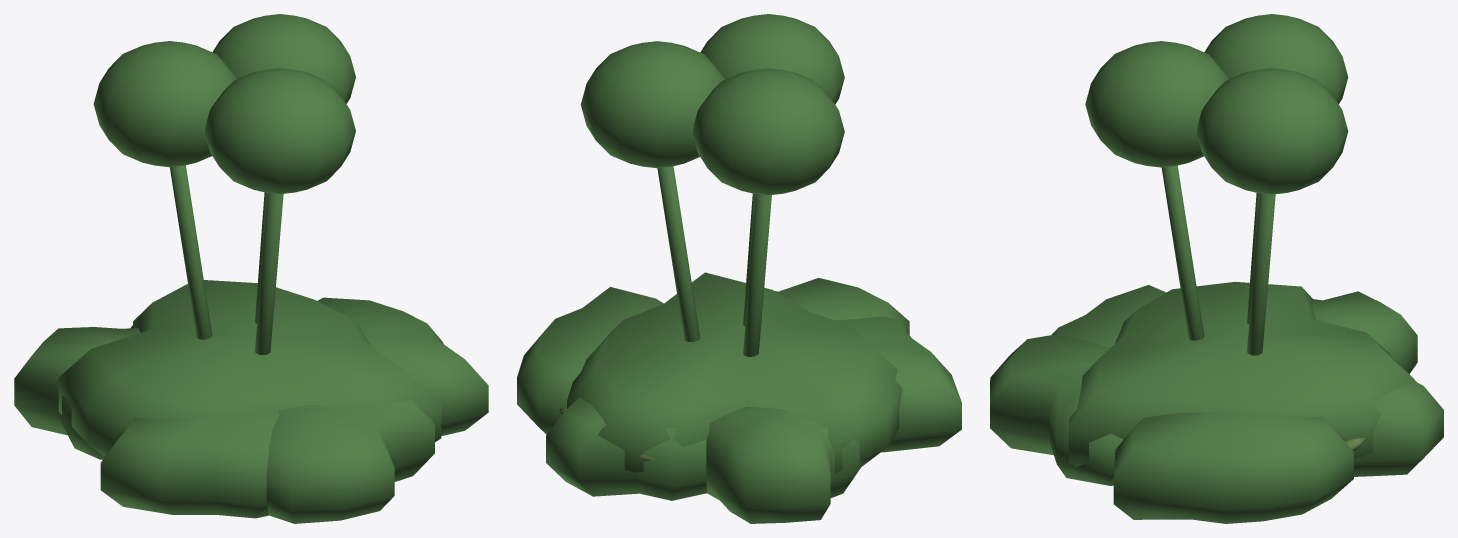
File: flowers_05.glb
3 renders of one model, left to right at view 1: azimuth 30°, elevation 25°; view 2: azimuth 150°, elevation 25°; view 3: azimuth 270°, elevation 25°, orthographic.
Visible parts, largest first — view 1: Tint, Ground foliage.018, Ground foliage.020, Ground foliage.021, Ground foliage.019, Ground foliage.022; view 2: Tint, Ground foliage.018, Ground foliage.022, Ground foliage.023, Ground foliage.019, Ground foliage.021, Ground foliage.020; view 3: Tint, Ground foliage.018, Ground foliage.019, Ground foliage.020, Ground foliage.023, Ground foliage.022, Ground foliage.021.
Part boxes in pixels (box(x1,y1,x2,y2)): Tint: box(93, 14, 355, 354); Ground foliage.018: box(58, 280, 441, 456); Ground foliage.020: box(266, 400, 434, 523); Ground foliage.021: box(100, 410, 279, 518); Ground foliage.019: box(317, 297, 488, 435); Ground foliage.022: box(14, 327, 140, 459); Tint: box(580, 14, 844, 356); Ground foliage.018: box(567, 272, 902, 473); Ground foliage.022: box(706, 406, 865, 523); Ground foliage.023: box(546, 397, 706, 500); Ground foliage.019: box(517, 287, 663, 434); Ground foliage.021: box(834, 316, 961, 452); Ground foliage.020: box(775, 278, 909, 334); Tint: box(1085, 14, 1348, 355); Ground foliage.018: box(1068, 281, 1416, 466); Ground foliage.019: box(1113, 412, 1353, 523); Ground foliage.020: box(990, 334, 1123, 485); Ground foliage.023: box(1354, 354, 1443, 476); Ground foliage.022: box(1312, 291, 1417, 373); Ground foliage.021: box(1051, 285, 1166, 346).
Size of the model in its own units: 0.4374 by 0.45 by 0.4508.
